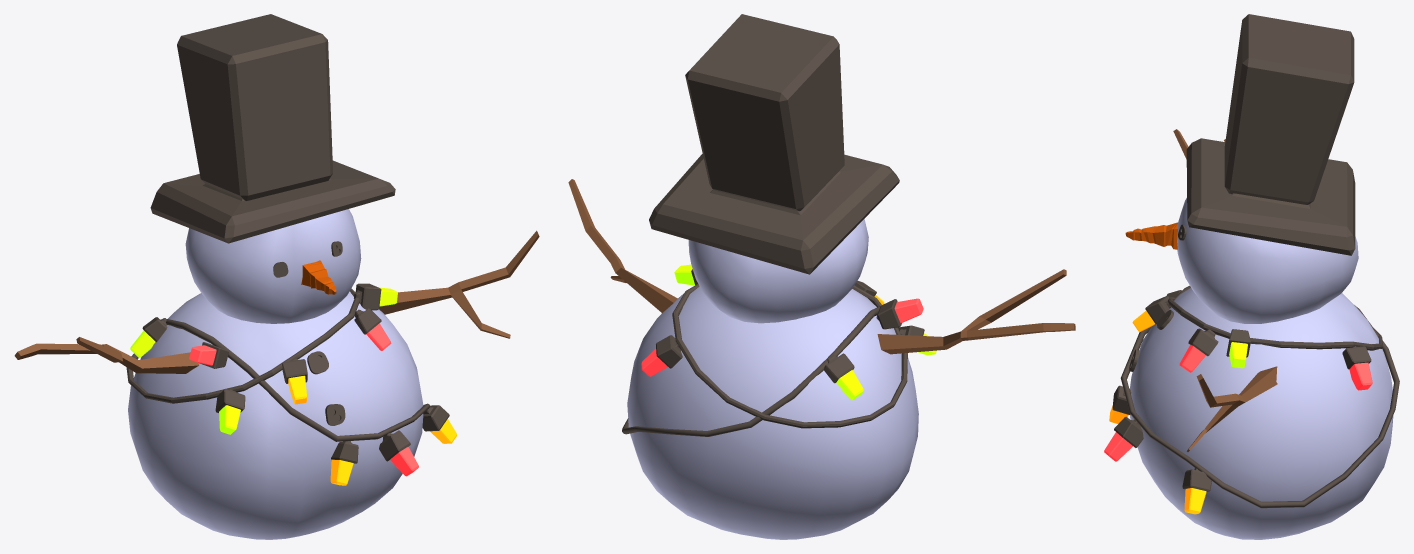
Rendered from snowman.fbx.
The picture shows the model from 3 angles, left to right: view 1: azimuth 30°, elevation 25°; view 2: azimuth 150°, elevation 25°; view 3: azimuth 270°, elevation 25°; orthographic projection. The views are drawn at different scales.
Visible parts, largest first — view 1: StickArms; view 2: StickArms; view 3: StickArms.
Boxes of the visible parts, x1,y1,x2,y2 form: StickArms: (14, 14, 539, 539); StickArms: (568, 14, 1075, 539); StickArms: (1104, 14, 1399, 539).
Size of the model in its own units: 855 by 781 by 433.
